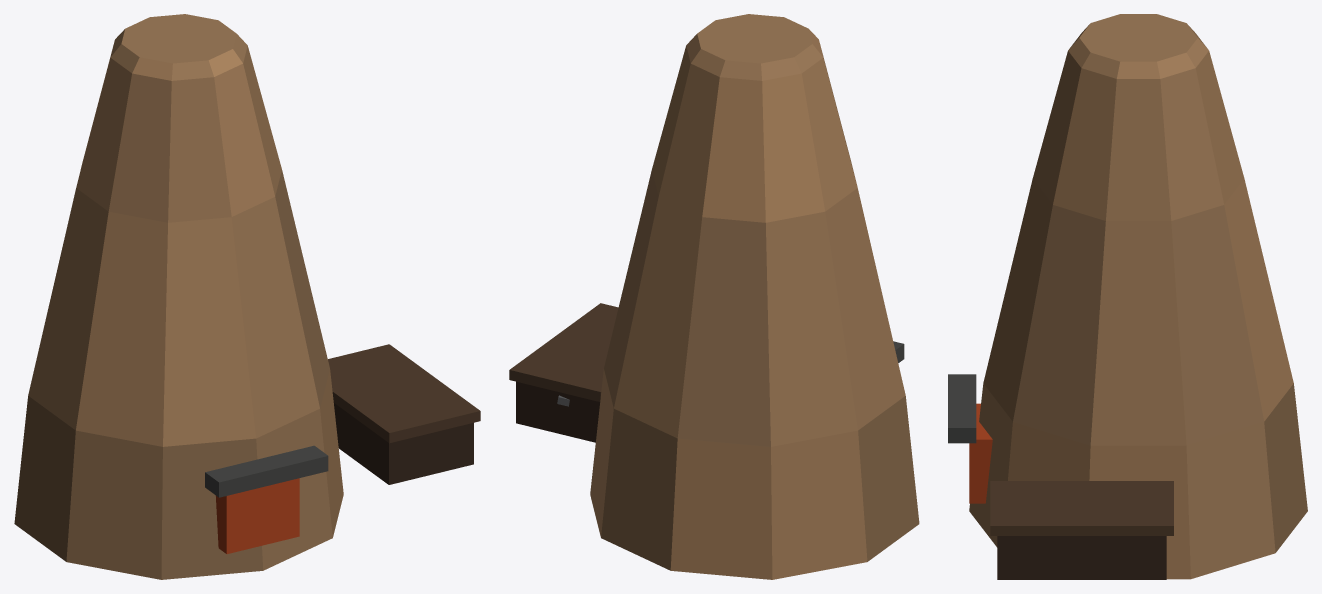
File: walk_prop_bloomery.glb
3 views of the same model, side by side, from view 1: azimuth 30°, elevation 25°; view 2: azimuth 150°, elevation 25°; view 3: azimuth 270°, elevation 25° (orthographic).
Visible parts, largest first — view 1: walk_prop_bloomery; view 2: walk_prop_bloomery; view 3: walk_prop_bloomery.
Boxes of the visible parts, x1,y1,x2,y2 form: walk_prop_bloomery: (14, 14, 480, 579); walk_prop_bloomery: (509, 14, 919, 579); walk_prop_bloomery: (948, 14, 1307, 579).
Size of what is drawn, in the model's own units: 3.02 by 3.7 by 2.55.
Materials: 2 (2 with a texture image).
